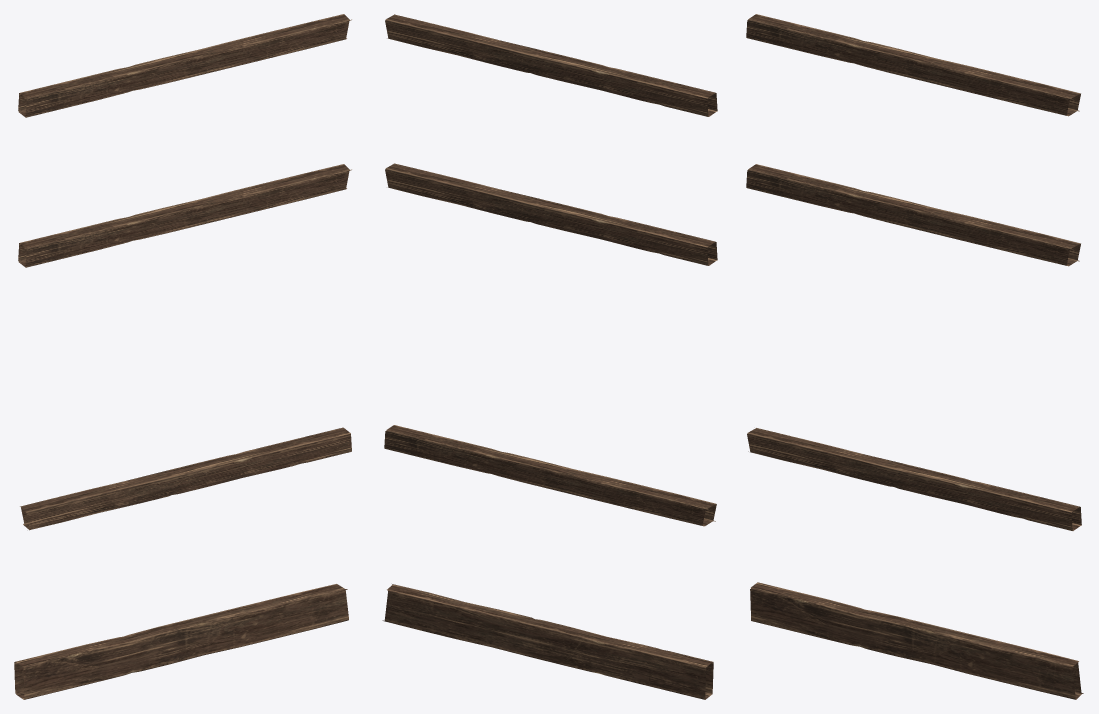
Rendered from SM_Wall_Pannels_01.fbx.
The picture shows the model from 3 angles, left to right: view 1: azimuth 30°, elevation 25°; view 2: azimuth 150°, elevation 25°; view 3: azimuth 330°, elevation 25°; orthographic projection.
Parts seen in each view (by area): view 1: SM_Wall_Pannels_01_LOD0; view 2: SM_Wall_Pannels_01_LOD0; view 3: SM_Wall_Pannels_01_LOD0.
Boxes of the visible parts, box(x1,y1,x2,y2) form: SM_Wall_Pannels_01_LOD0: box(14, 14, 351, 699); SM_Wall_Pannels_01_LOD0: box(382, 14, 717, 699); SM_Wall_Pannels_01_LOD0: box(746, 14, 1083, 699).
Bounding box in the file's own units: 217 × 13.09 × 383.
